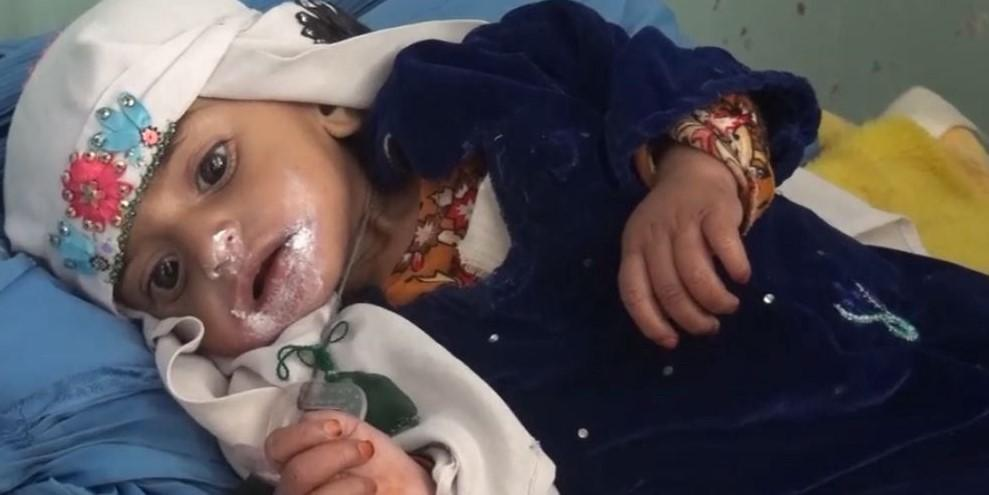Stunting: (70, 79, 404, 371)
